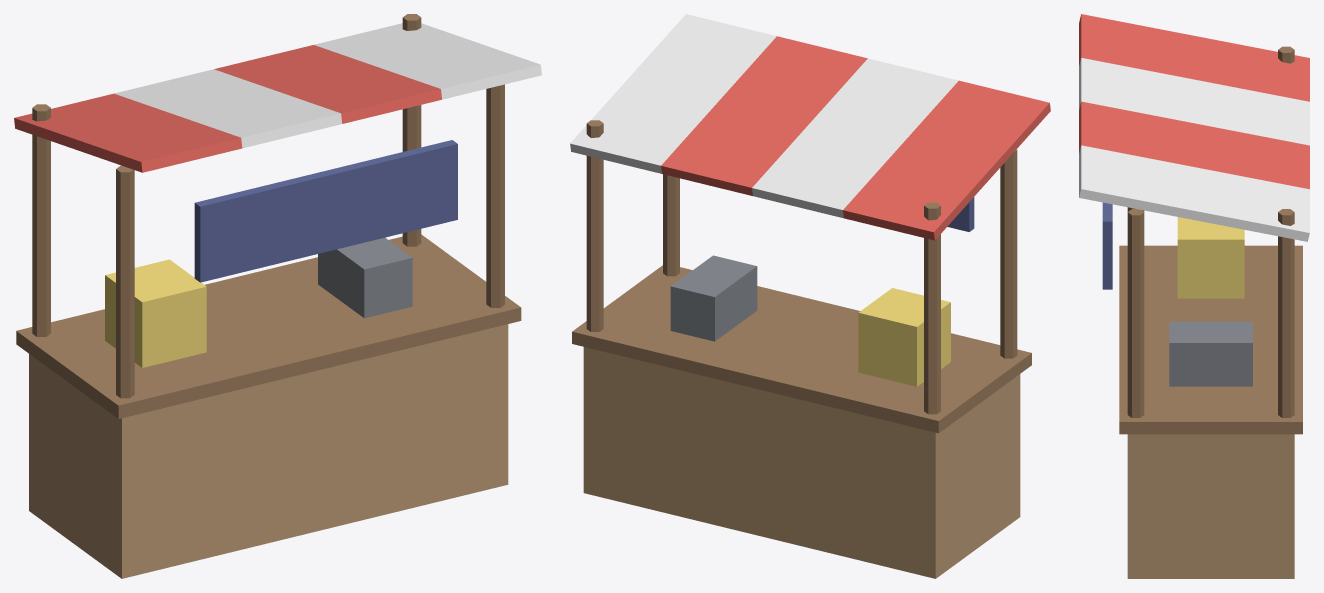
The model's file is ShopKiosk.fbx.
3 views of the same model, side by side, from view 1: azimuth 30°, elevation 25°; view 2: azimuth 150°, elevation 25°; view 3: azimuth 270°, elevation 25° (orthographic). The views are drawn at different scales.
Visible parts, largest first — view 1: Body; view 2: Body; view 3: Body.
Boxes of the visible parts, x1,y1,x2,y2 form: Body: [14, 14, 541, 578]; Body: [570, 14, 1050, 578]; Body: [1079, 14, 1309, 578].
Size of the model in its own units: 2.5 by 2.59 by 1.38.
